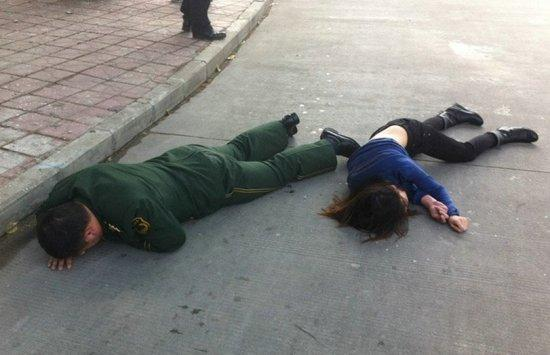Fall-Detected: (29, 102, 356, 277)
